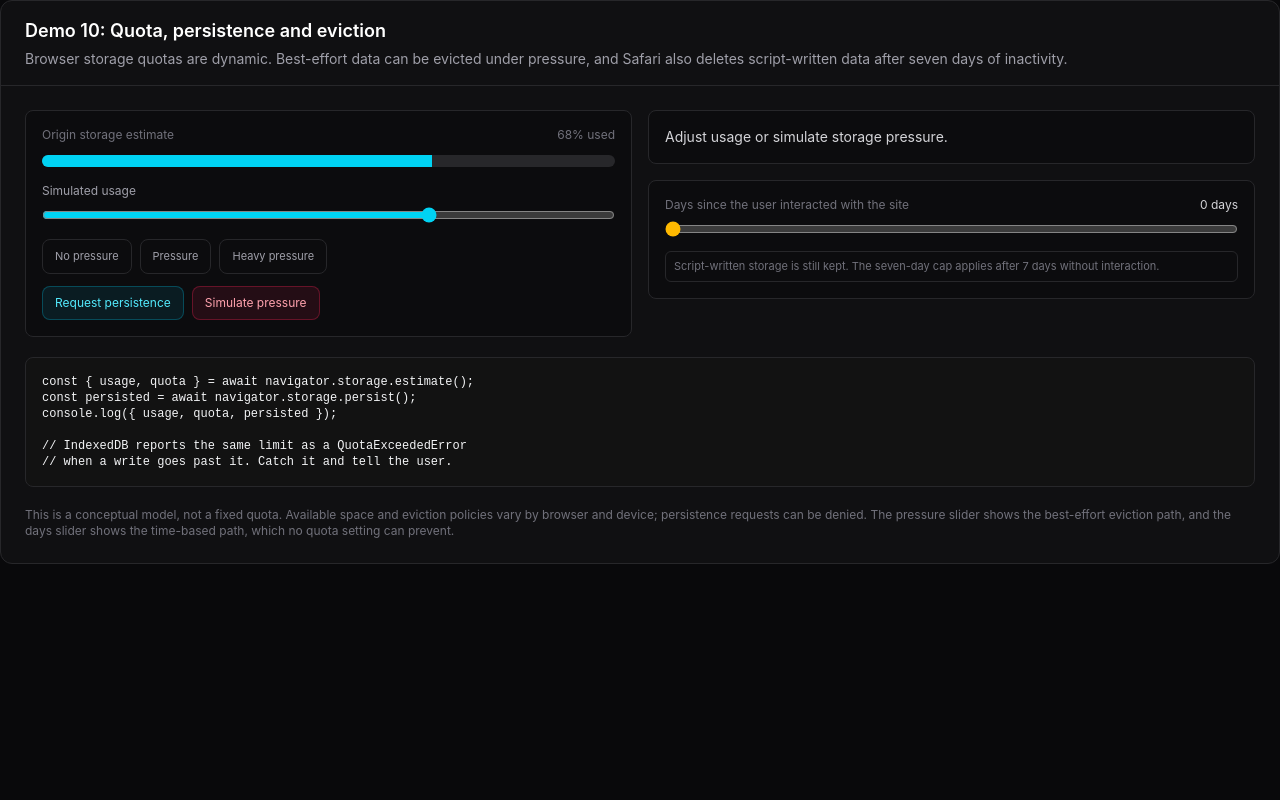
Test: QuotaEvictionDemo › reports the Safari seven-day cap once the idle slider passes it
The image size is (1280, 800).
Set the slider named "Days since the user interacted" to "9". click: (1031,229)
box: x1=665 y1=221 x2=1238 y2=237
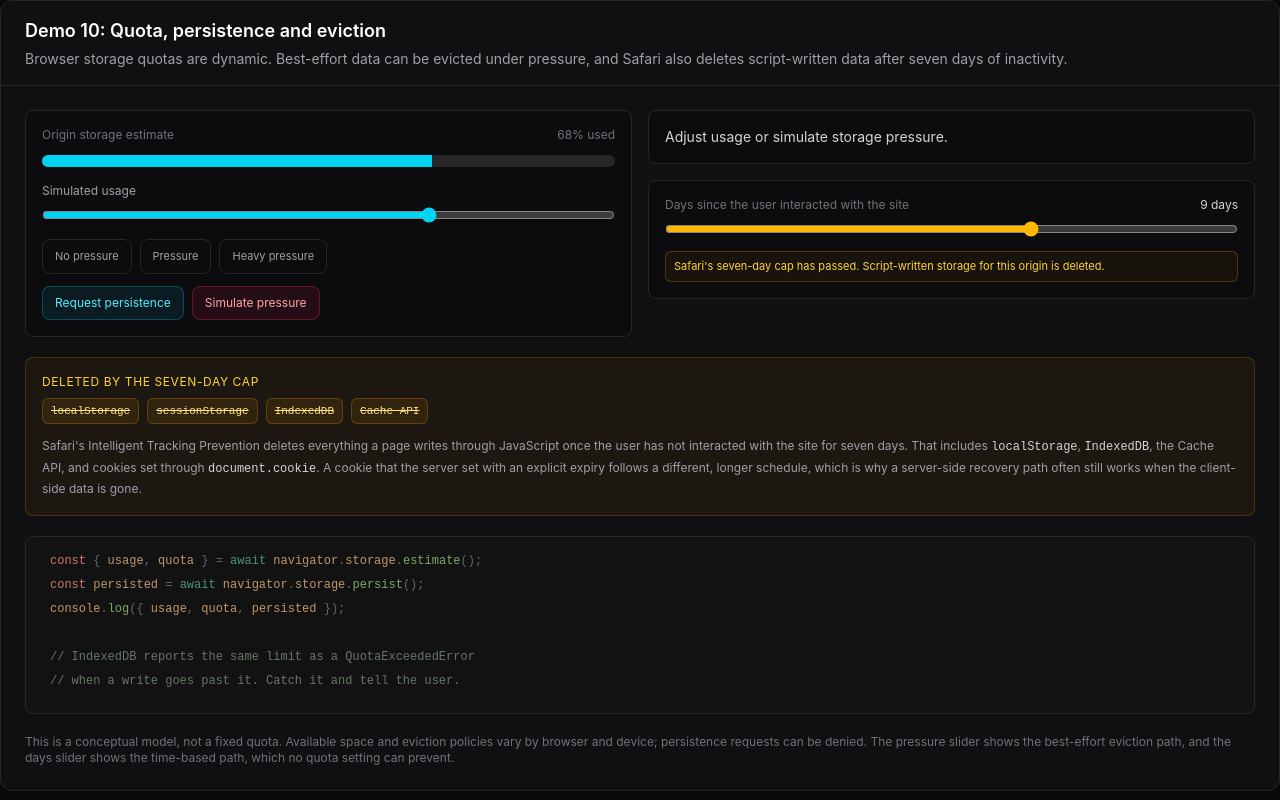
Now the text "seven-day cap has passed" is shown, box x1=674 y1=259 x2=1105 y2=273
